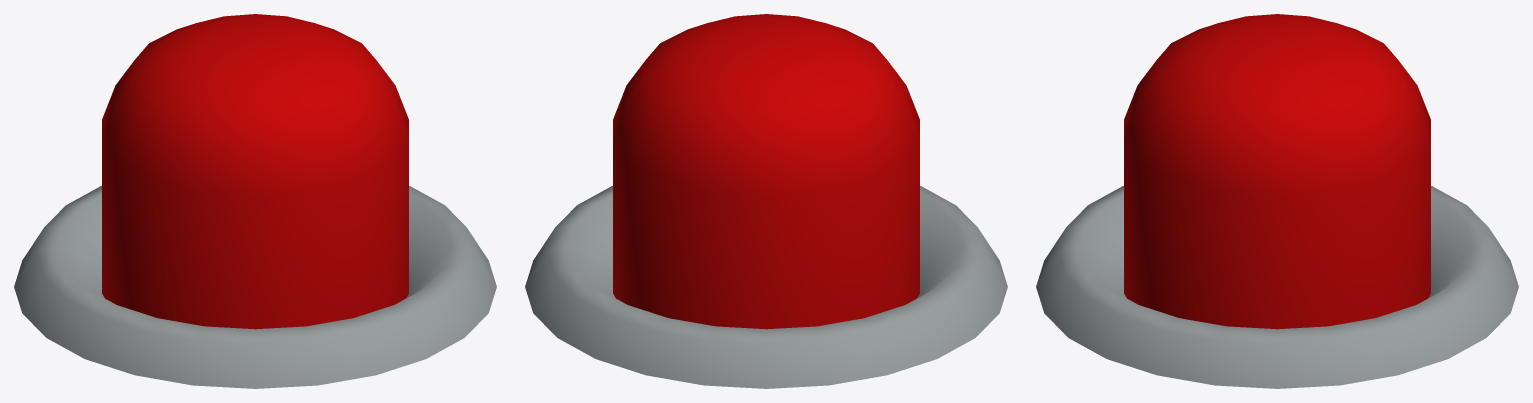
File: Diode.fbx
3 views of the same model, side by side, from view 1: azimuth 30°, elevation 25°; view 2: azimuth 150°, elevation 25°; view 3: azimuth 270°, elevation 25° (orthographic).
Visible parts, largest first — view 1: Diode, Ring; view 2: Diode, Ring; view 3: Diode, Ring.
Part boxes in pixels (x1,y1,x2,y2): Diode: (102, 14, 408, 329); Ring: (14, 186, 496, 388); Diode: (613, 14, 919, 329); Ring: (525, 186, 1007, 388); Diode: (1124, 14, 1430, 329); Ring: (1036, 186, 1518, 388).
Bounding box in the file's own units: 158 × 89.37 × 158.
